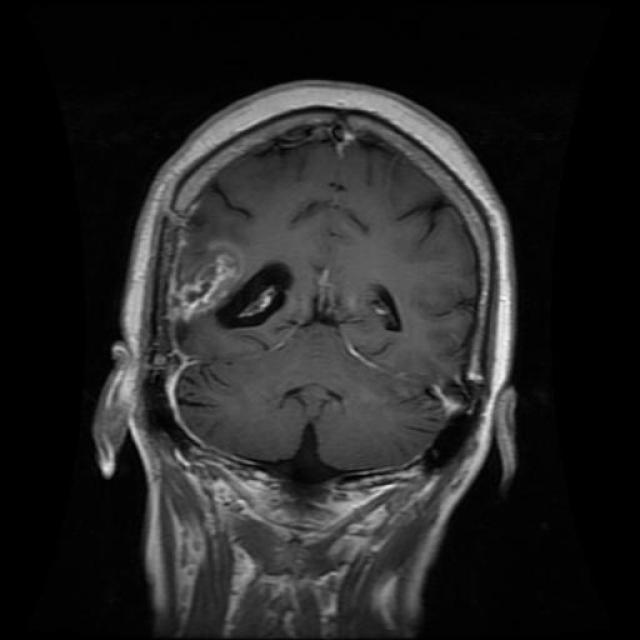glioma: (177, 242, 295, 338)
